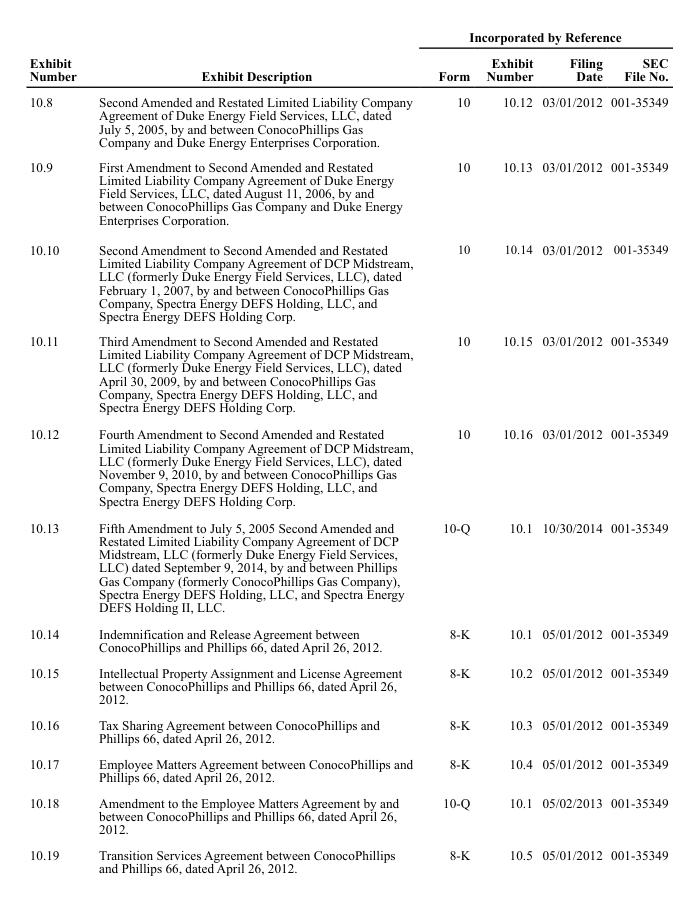table: (28, 29, 667, 874)
table column: (86, 29, 425, 874), (537, 29, 605, 874), (605, 29, 667, 874), (477, 29, 537, 874), (28, 29, 86, 874), (425, 29, 477, 874)
table column header: (28, 29, 667, 88)
table row: (28, 513, 667, 620), (28, 234, 667, 328), (28, 420, 667, 513), (28, 328, 667, 420), (28, 153, 667, 234), (28, 88, 667, 153), (28, 659, 667, 711), (28, 789, 667, 841), (28, 49, 667, 88), (28, 620, 667, 659), (28, 711, 667, 750), (28, 750, 667, 789), (28, 841, 667, 874), (28, 29, 667, 49)
table spanning cell: (86, 29, 425, 88), (425, 29, 667, 49), (28, 29, 86, 88)
